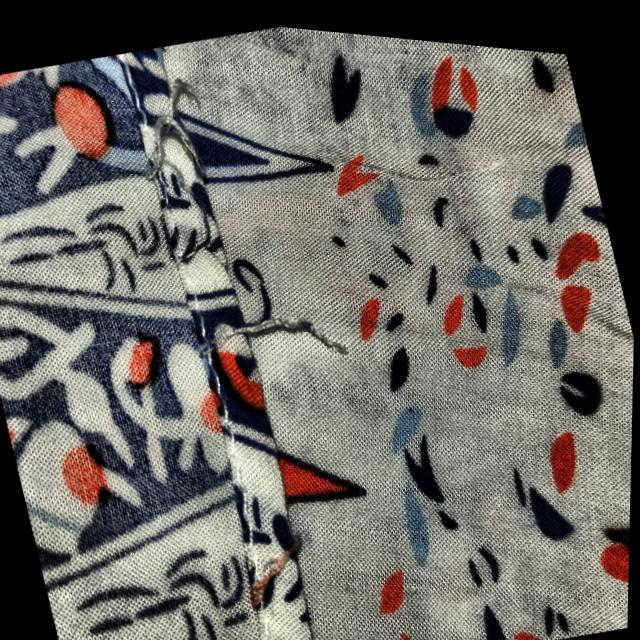Stitch: (81, 35, 256, 249), (170, 260, 369, 438), (195, 506, 358, 640)
